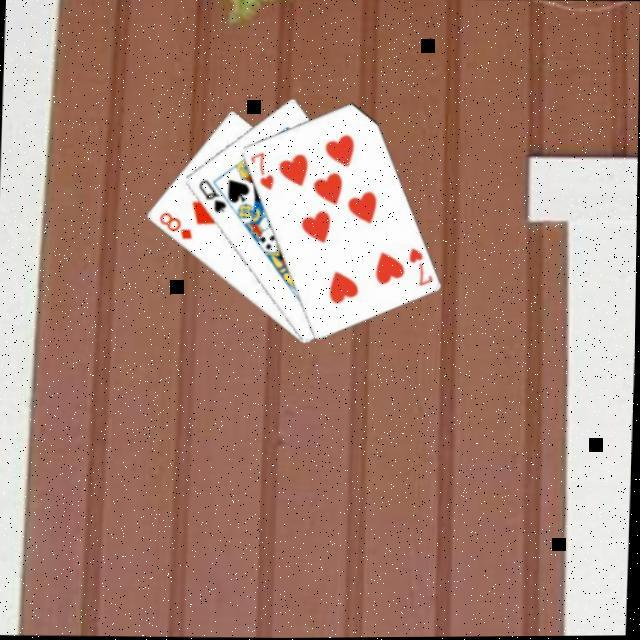7H: (406, 246, 439, 292), (247, 150, 279, 195)
8D: (157, 210, 198, 244)
QS: (196, 178, 231, 217)
